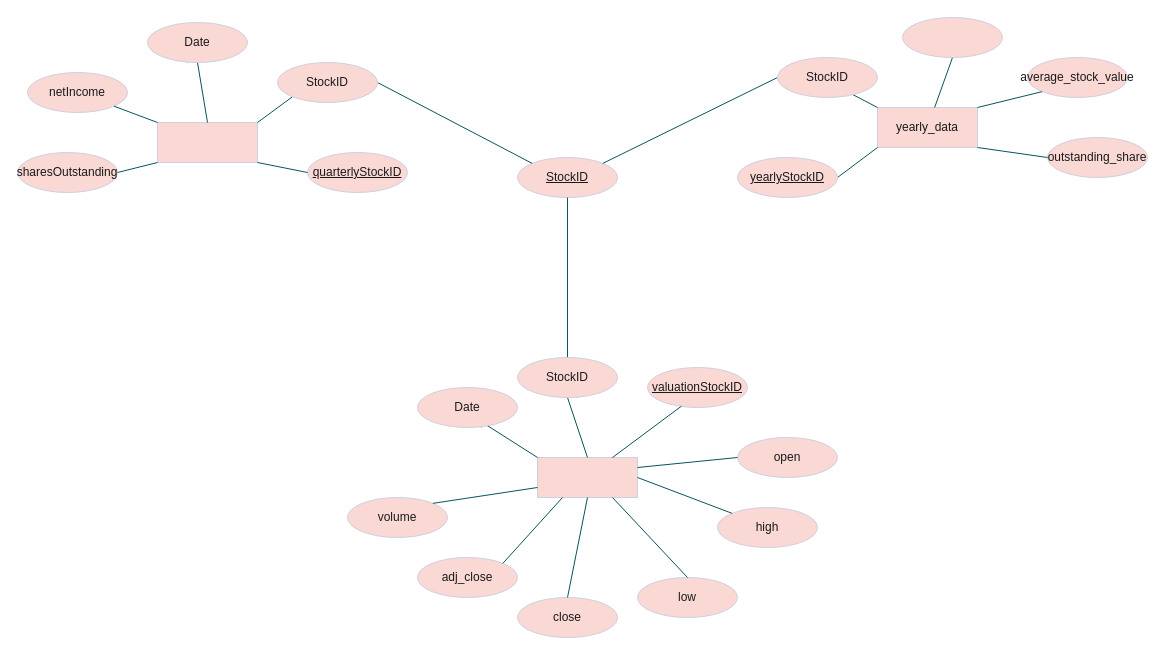
Image size: 1165x655. Some labels were removed from this diagram. Each missing label, with the centre of its shape:
"quarterly_data" belongs at point 207,142.
"valuation_Stocks" belongs at point 587,477.
"Year" belongs at point 952,37.
